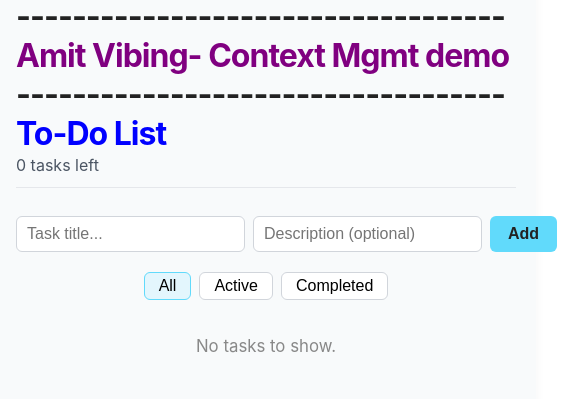
Test: App Component › Adding Tasks › shows error when trying to add empty task
The image size is (575, 399).
Click the button "Add" at (524, 234), box [490, 216, 557, 252]
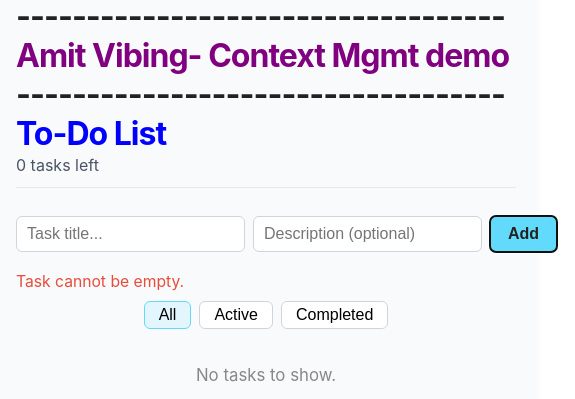
Check: the text "Task cannot be empty." is shown, box [16, 272, 184, 291]
